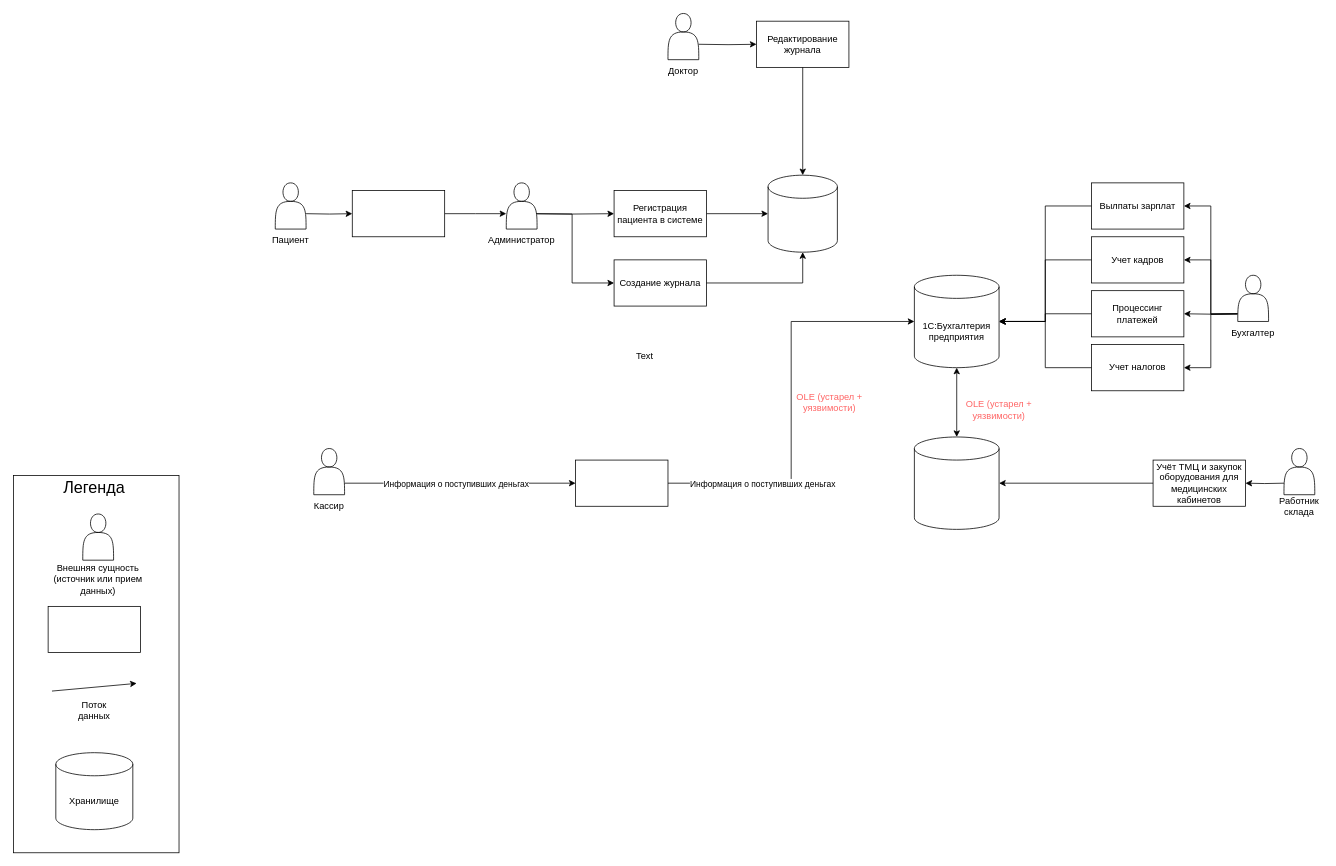
This 1336x866 diagram has some shape labels left out. Each missing label, with the centre of its shape:
"1С:Торговля и склад" belongs at (956,482).
"Заполнение формы" belongs at (398,213).
"ККМ" belongs at (621,482).
"Общий сетевой диск" belongs at (802,213).
"Процесс" belongs at (94,629).
